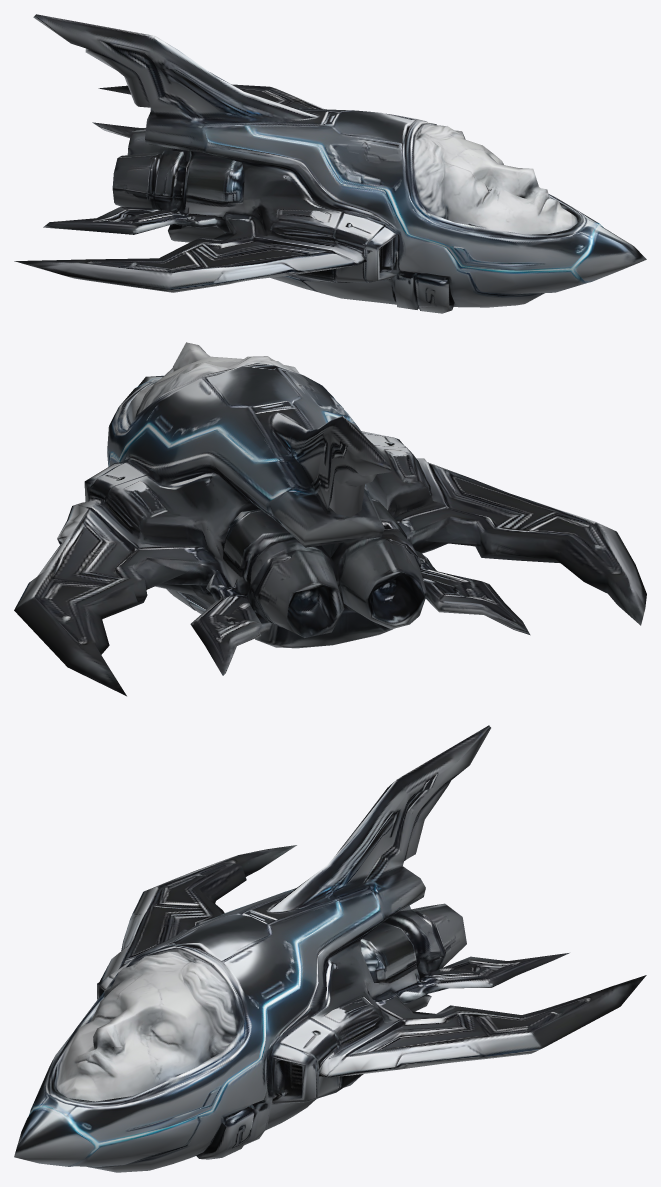
The model's file is model_hunter.glb.
3 renders of one model, top to bottom at view 1: azimuth 30°, elevation 25°; view 2: azimuth 150°, elevation 25°; view 3: azimuth 270°, elevation 25°, orthographic. The views are drawn at different scales.
Parts seen in each view (by area): view 1: tripo_node_8c5f9df7-14db-4278-8c6b-f5e4147ca2d1; view 2: tripo_node_8c5f9df7-14db-4278-8c6b-f5e4147ca2d1; view 3: tripo_node_8c5f9df7-14db-4278-8c6b-f5e4147ca2d1.
Boxes of the visible parts, x1,y1,x2,y2 form: tripo_node_8c5f9df7-14db-4278-8c6b-f5e4147ca2d1: [14, 14, 646, 313]; tripo_node_8c5f9df7-14db-4278-8c6b-f5e4147ca2d1: [14, 342, 646, 696]; tripo_node_8c5f9df7-14db-4278-8c6b-f5e4147ca2d1: [14, 725, 646, 1172].
Bounding box in the file's own units: 0.9316 × 0.4297 × 0.8944.
Materials: 1 (1 with a texture image).
